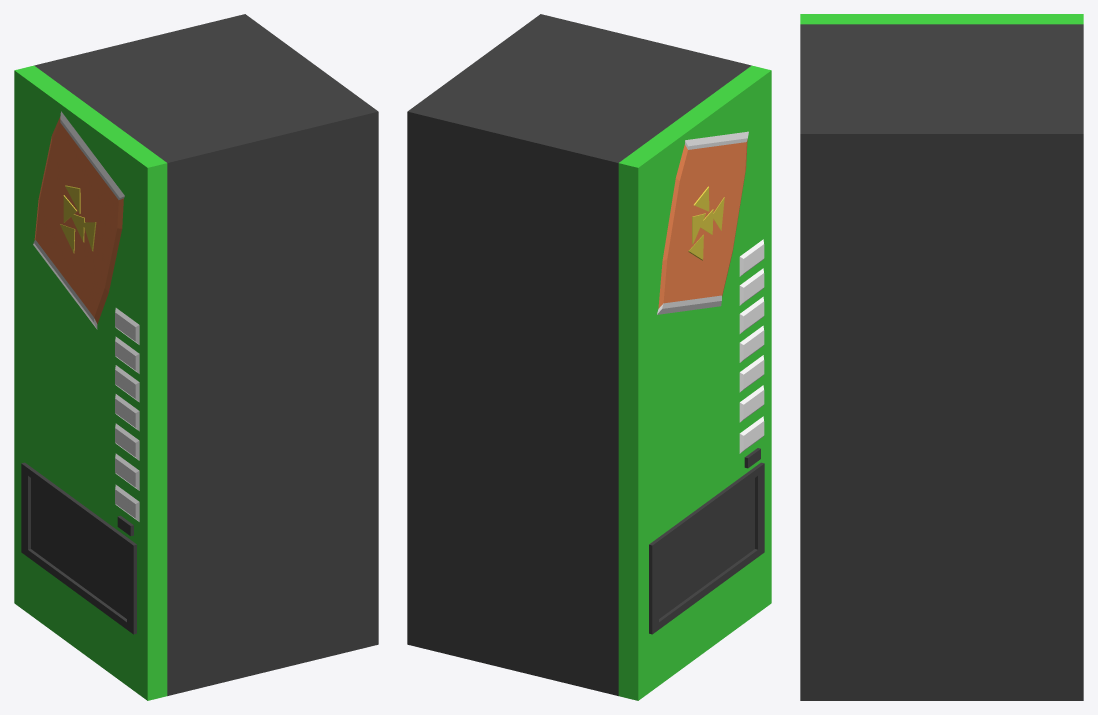
3 views of the same model, side by side, from view 1: azimuth 30°, elevation 25°; view 2: azimuth 150°, elevation 25°; view 3: azimuth 270°, elevation 25° (orthographic). The views are drawn at different scales.
Parts seen in each view (by area): view 1: Food Vending Machine; view 2: Food Vending Machine; view 3: Food Vending Machine.
Boxes of the visible parts, bbox=[...] form: Food Vending Machine: bbox=[14, 14, 378, 700]; Food Vending Machine: bbox=[407, 14, 771, 700]; Food Vending Machine: bbox=[800, 14, 1083, 700].
Size of the model in its own units: 2.47 by 2.51 by 5.45.
